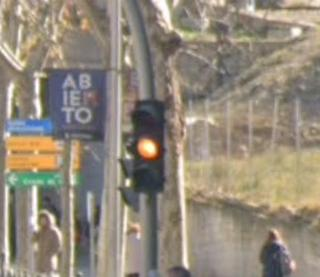yellow_light: (131, 99, 166, 190)
